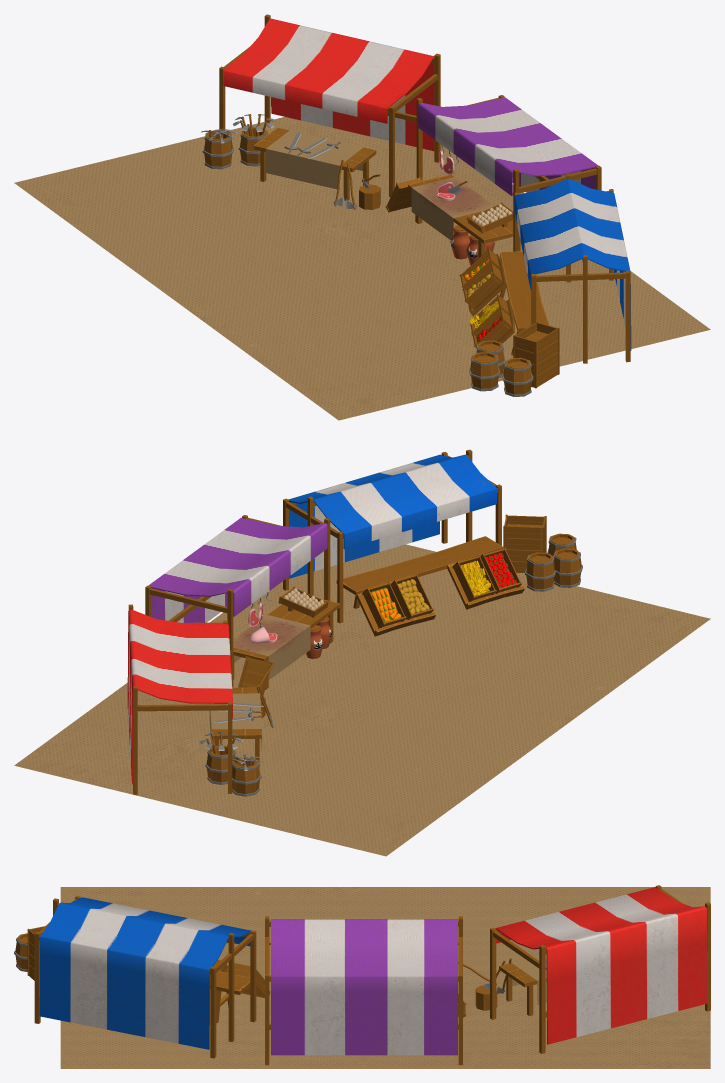
The model's file is medieval-market.glb.
3 views of the same model, one above another, from view 1: azimuth 30°, elevation 25°; view 2: azimuth 150°, elevation 25°; view 3: azimuth 270°, elevation 25° (orthographic).
Visible parts, largest first — view 1: Carpet, Stand_Tools, Stand_Meat, Stand_Vegetables, Caja, Barrel.002, Barrel, BoxSmall; view 2: Carpet, Stand_Vegetables, Stand_Meat, Stand_Tools, Caja, Barrel.001, Barrel.002, BoxSmall; view 3: Carpet, Stand_Meat, Stand_Vegetables, Stand_Tools, Barrel, Caja.
Part boxes in pixels (bbox=[...]): Carpet: bbox=[14, 117, 710, 420]; Stand_Tools: bbox=[201, 14, 440, 209]; Stand_Meat: bbox=[408, 95, 601, 265]; Stand_Vegetables: bbox=[459, 173, 631, 363]; Caja: bbox=[513, 321, 559, 388]; Barrel.002: bbox=[469, 352, 500, 391]; Barrel: bbox=[502, 357, 533, 396]; BoxSmall: bbox=[385, 177, 422, 212]; Carpet: bbox=[14, 544, 710, 856]; Stand_Vegetables: bbox=[283, 449, 524, 636]; Stand_Meat: bbox=[145, 515, 340, 689]; Stand_Tools: bbox=[127, 604, 274, 796]; Caja: bbox=[503, 514, 546, 573]; Barrel.001: bbox=[525, 552, 555, 591]; Barrel.002: bbox=[553, 548, 582, 587]; BoxSmall: bbox=[238, 656, 272, 695]; Carpet: bbox=[60, 887, 710, 1068]; Stand_Meat: bbox=[265, 916, 462, 1065]; Stand_Vegetables: bbox=[34, 895, 270, 1058]; Stand_Tools: bbox=[458, 885, 710, 1053]; Barrel: bbox=[14, 933, 27, 971]; Caja: bbox=[27, 926, 44, 980].
Size of the model in its own units: 13.67 by 3.77 by 22.14.
Materials: 12 (12 with a texture image).
